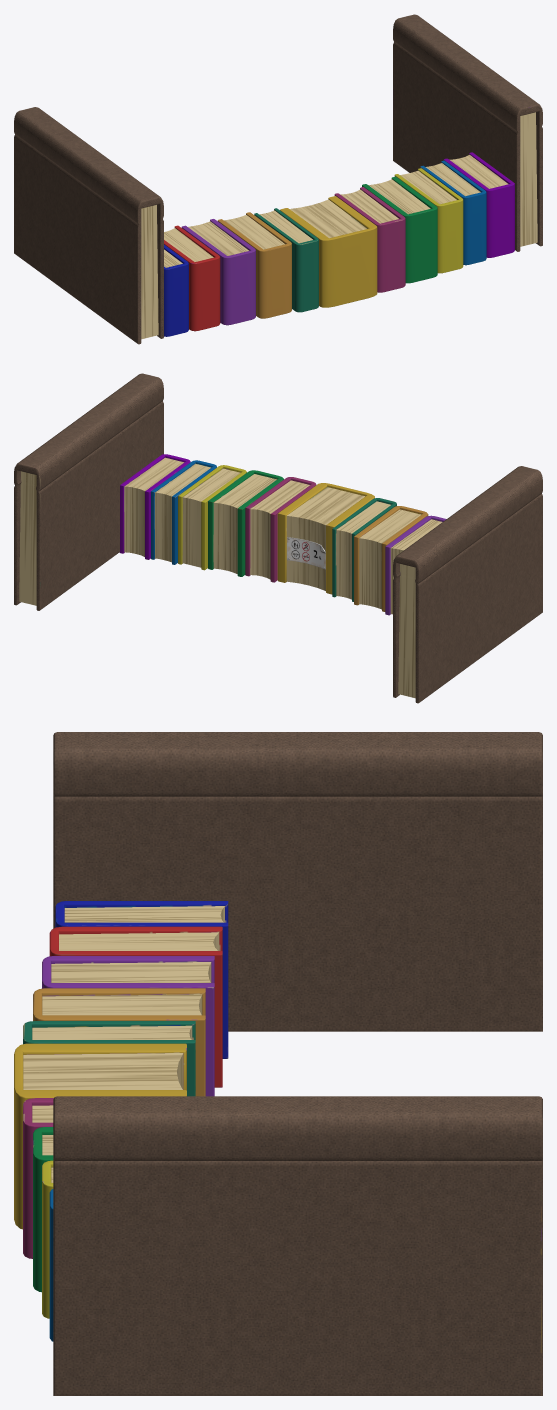
File: wagon.fbx
The picture shows the model from 3 angles, top to bottom: view 1: azimuth 30°, elevation 25°; view 2: azimuth 150°, elevation 25°; view 3: azimuth 270°, elevation 25°; orthographic projection. The views are drawn at different scales.
Parts seen in each view (by area): view 1: wagon; view 2: wagon; view 3: wagon.
Part boxes in pixels (<box>): wagon: <box>14,14,542,344</box>; wagon: <box>14,373,542,703</box>; wagon: <box>14,732,542,1395</box>.
Size of the model in its own units: 109 by 36.76 by 62.79.
